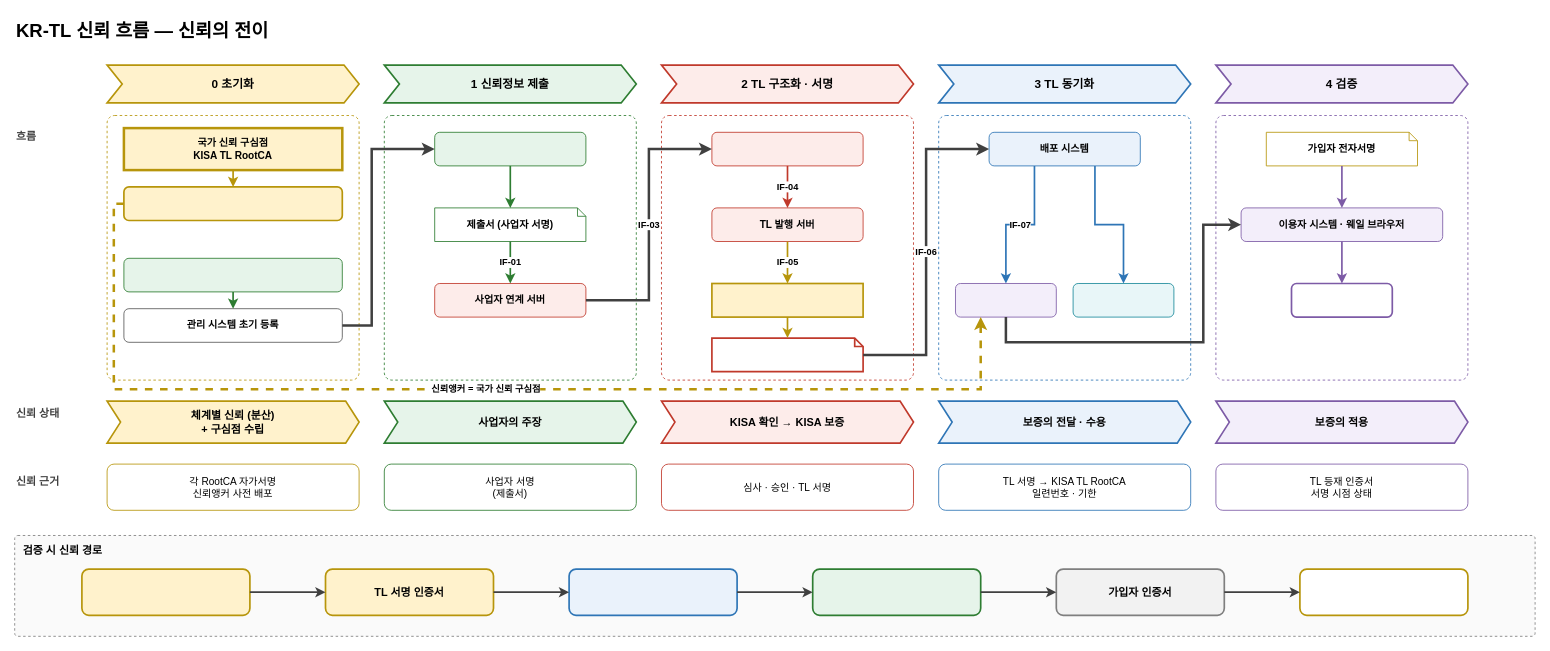
The diagram is 1550 pixels wide and 651 high, and some of its shapes have lost their labels. Here are the shapes that lost their labels. From the top down, the centre of each, then its label:
the point at 510,148: 인증사업자
the point at 787,148: 신뢰정보 관리 서버
the point at 233,203: 신뢰앵커 배포
the point at 232,274: 사업자 인증체계 (4곳)
the point at 787,300: HSM
the point at 1005,300: 이용자 시스템
the point at 1123,300: 웨일 브라우저
the point at 1341,300: 판정
the point at 787,354: 서명된 TL
the point at 165,592: KISA TL RootCA (국가 신뢰 구심점)
the point at 653,592: KR-TL
the point at 896,592: TL 등재 인증서 (RootCA · CA)
the point at 1383,592: 전자서명
